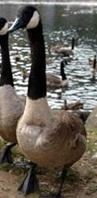goose: (5, 3, 89, 193)
